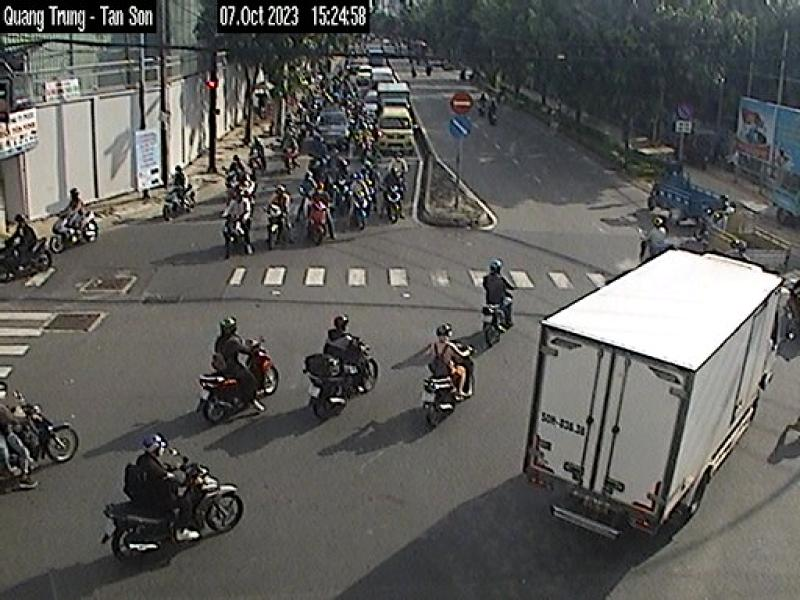car: (370, 110, 420, 153), (307, 112, 355, 151)
motorcycle: (101, 452, 250, 568), (0, 394, 83, 496), (197, 334, 280, 431), (304, 333, 379, 423), (418, 338, 476, 430), (0, 238, 60, 282), (52, 203, 101, 256), (484, 286, 516, 349), (220, 212, 250, 260)
truck: (523, 247, 796, 544), (698, 204, 788, 268), (649, 157, 730, 226)
